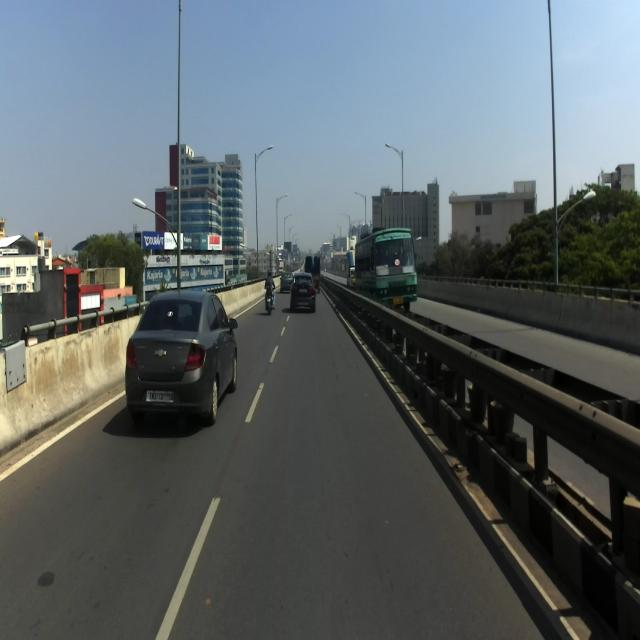car ahead at: (127, 283, 242, 428)
